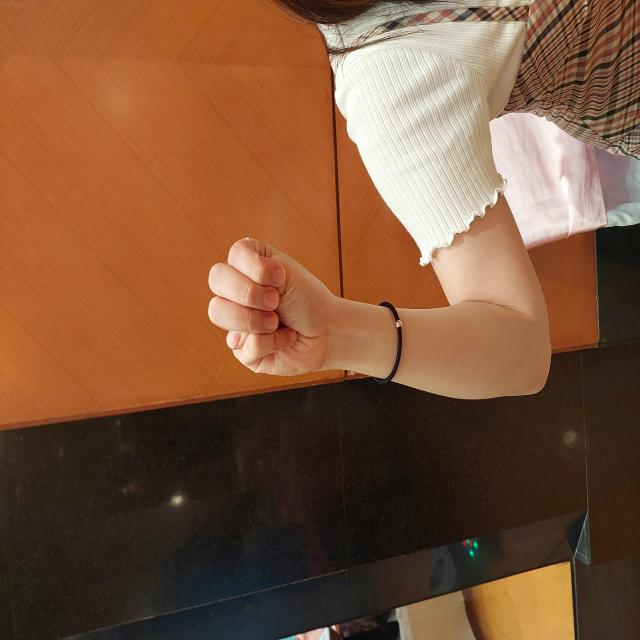M: (264, 207, 405, 336)
